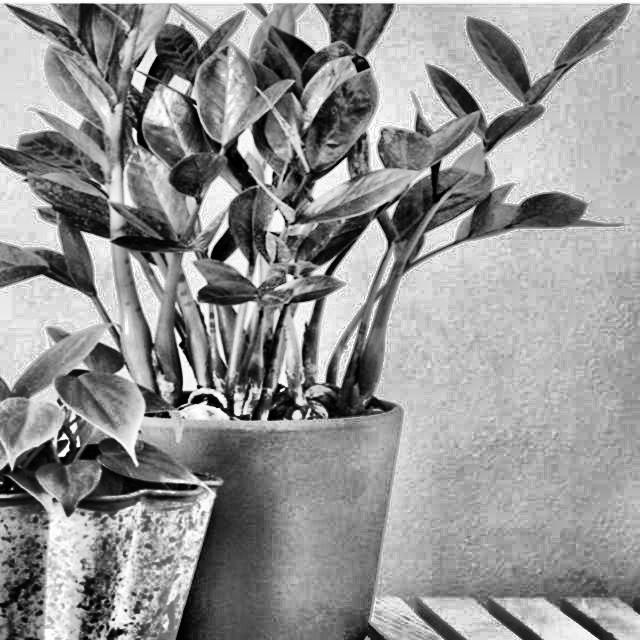plants: (17, 0, 496, 639), (0, 333, 203, 640)
